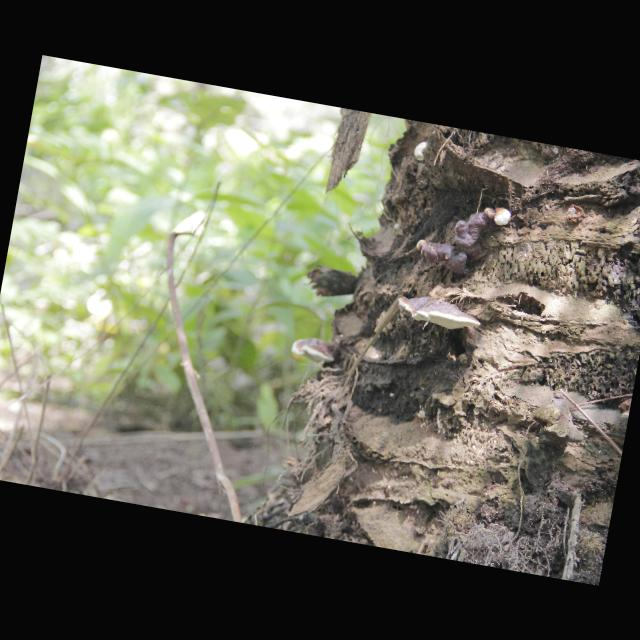ganoderma: (421, 198, 496, 281), (394, 292, 484, 336), (290, 335, 338, 368)
primordium: (493, 207, 513, 228), (414, 141, 429, 163), (416, 239, 426, 253)
